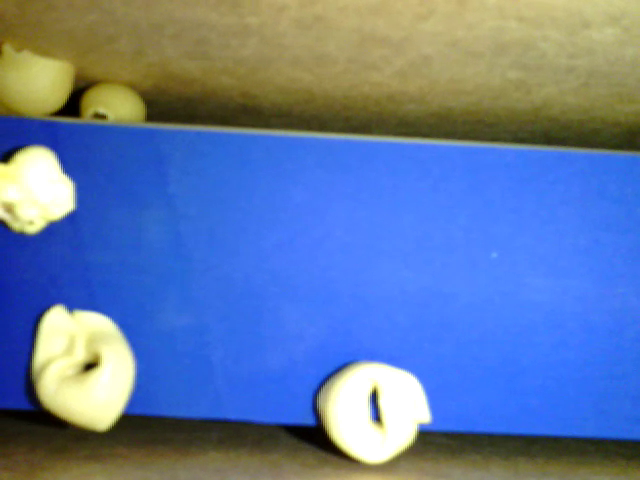shell: (1, 42, 76, 118), (82, 83, 146, 122)
tortellini: (32, 305, 135, 433), (315, 360, 430, 462)
